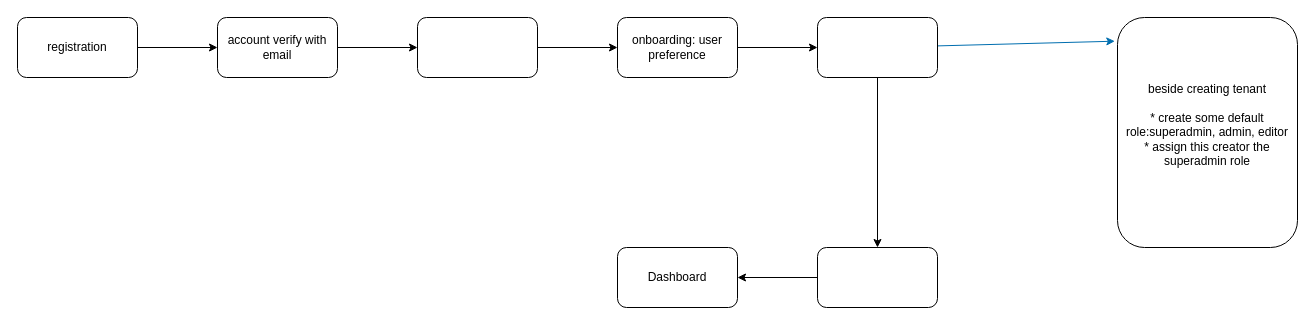
Some shapes in this 1315 by 325 pixel diagram are drawn without their labels. The shapes that lost their labels are listed below. From the top down, each one's centre as x and y in pixels, then its label:
At point 477,47: "login".
At point 877,47: "onboarding: tenant creation".
At point 877,277: "onboarding: tenant setting".
